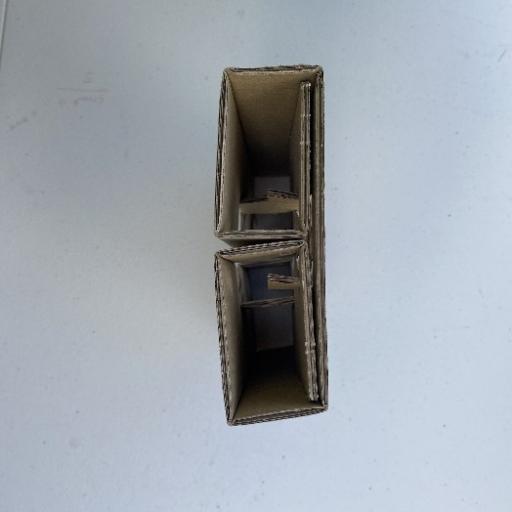Cardboard: (211, 62, 330, 427)
